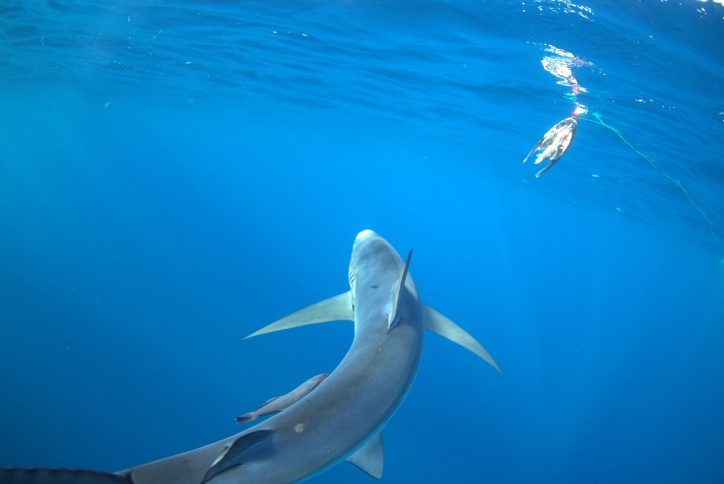Azul: (30, 195, 526, 484)
